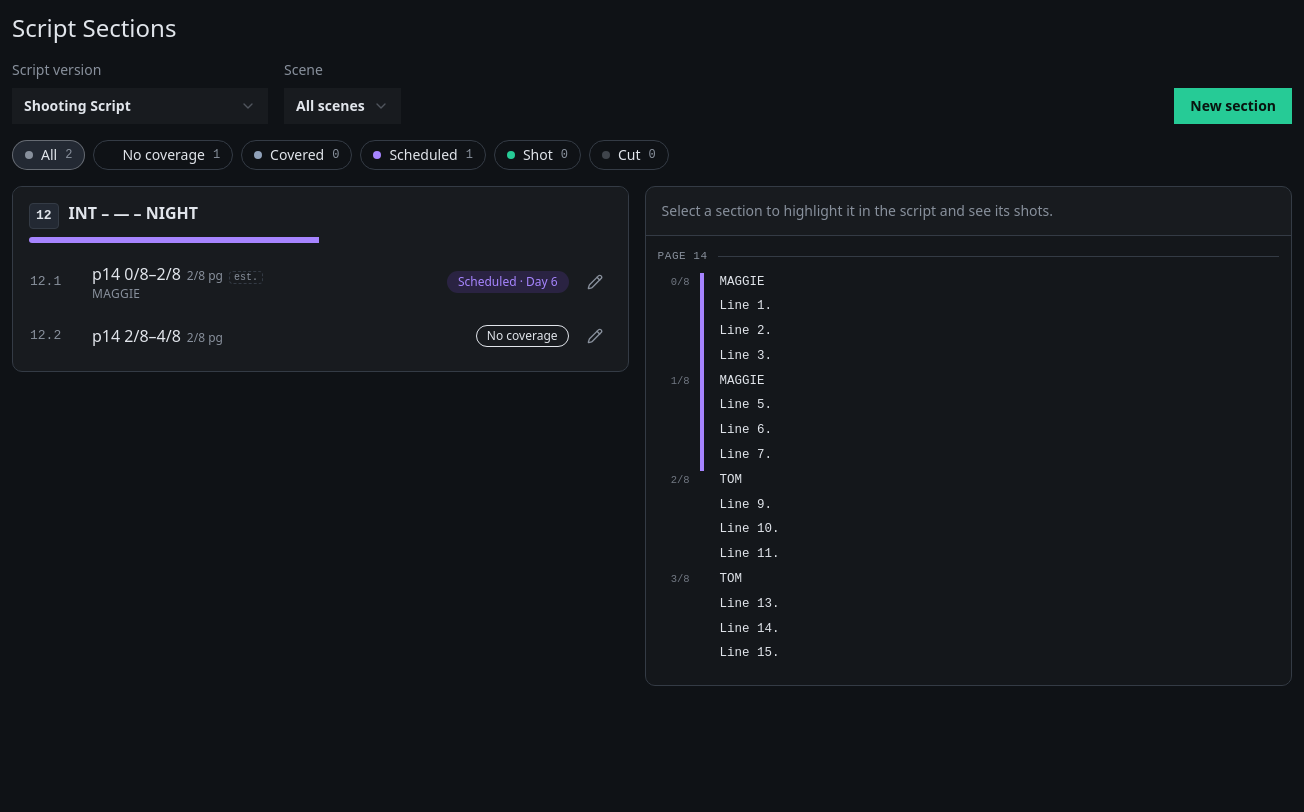
Test: ScriptSectionsPage › shows progress steps and the shot table for the selected section
This screenshot has width=1304, height=812.
Step 1. Click the option "12.1" → (46, 281), box [21, 252, 620, 310]
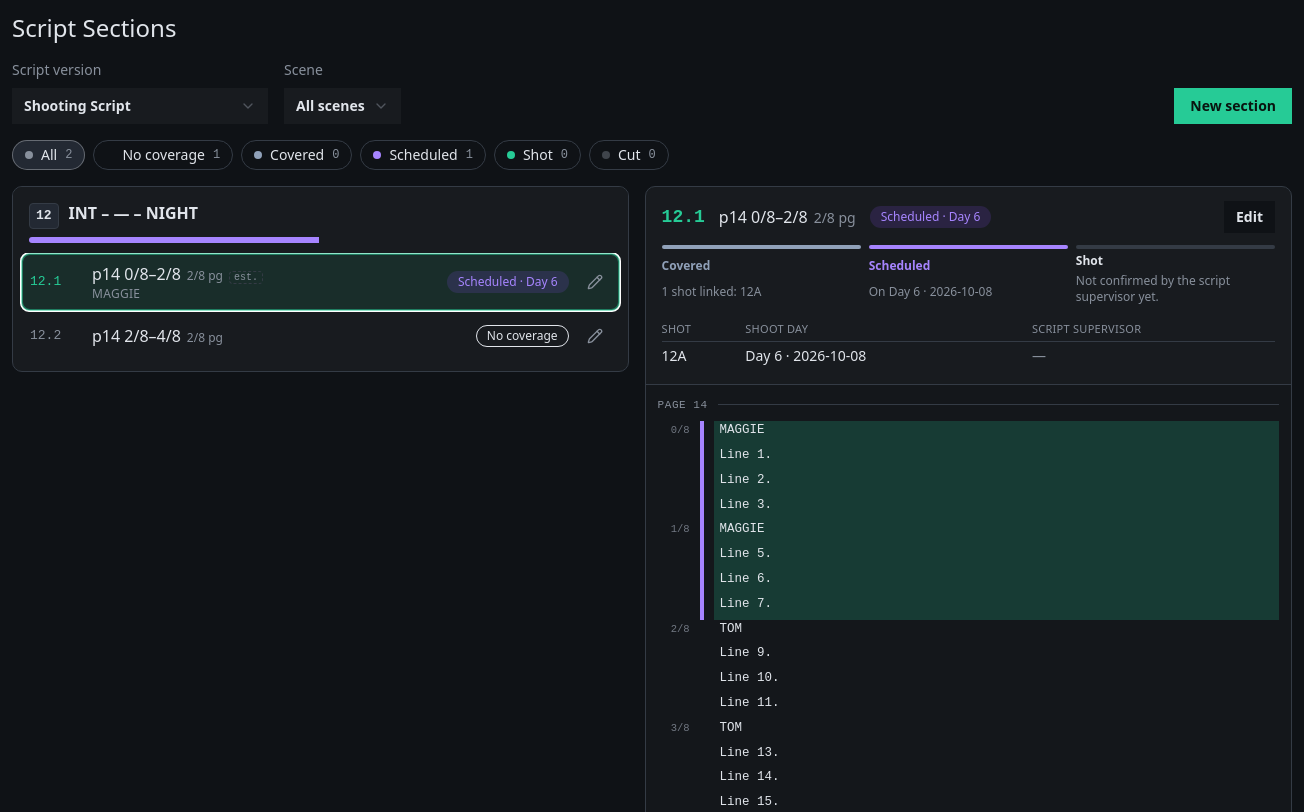
Now the text "1 shot linked: 12A" is shown, box [662, 283, 761, 300]
Now the text "On Day 6 · 2026-10-08" is shown, box [869, 283, 992, 300]
Now the cell "Day 6 · 2026-10-08" is shown, box [745, 341, 1032, 370]
